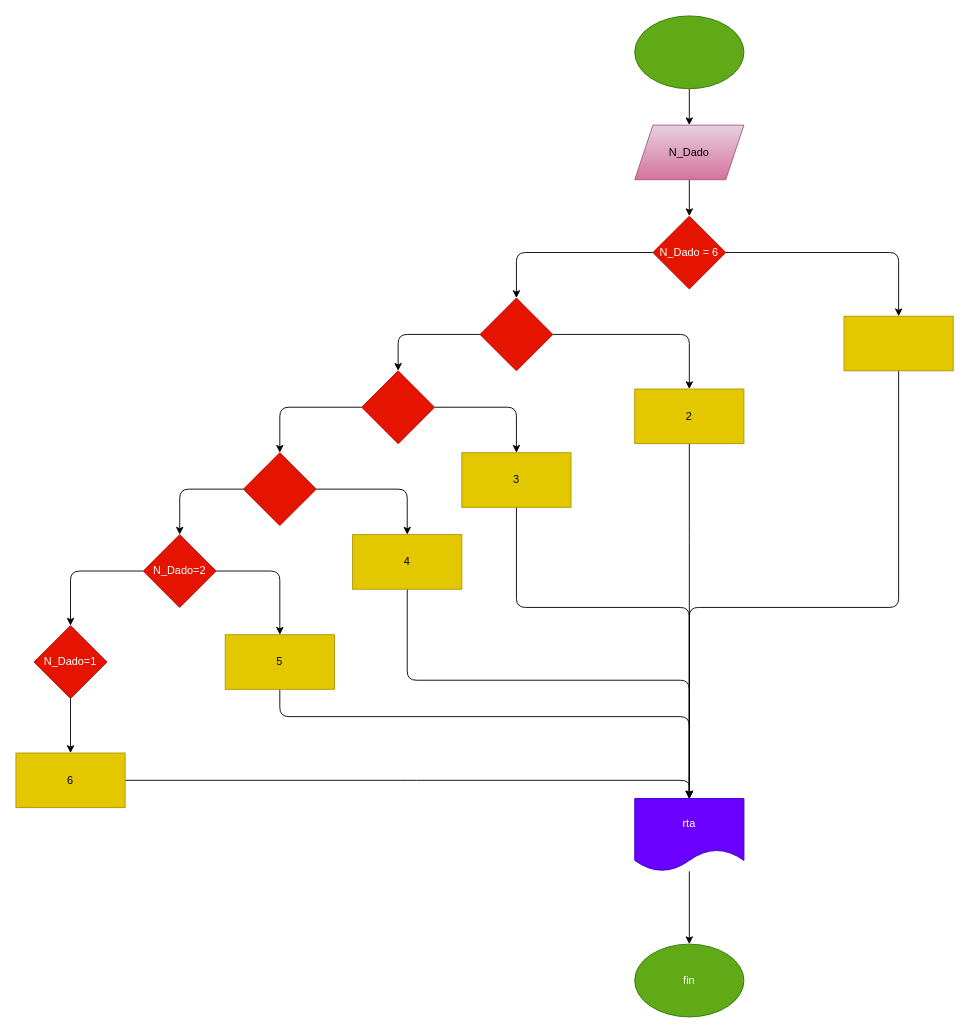
Image size: 969x1033. Some labels were removed from this diagram. The shapes that lost their labels are listed below. From the top down, each one's box as (x1, y1, x2, y2) in pixels, then its label:
(634, 15, 744, 89): inicio
(479, 297, 553, 371): N_Dado=5
(843, 315, 953, 371): Su inverso es 1
(361, 370, 435, 444): N_Dado=4
(243, 452, 316, 526): N_Dado=3
